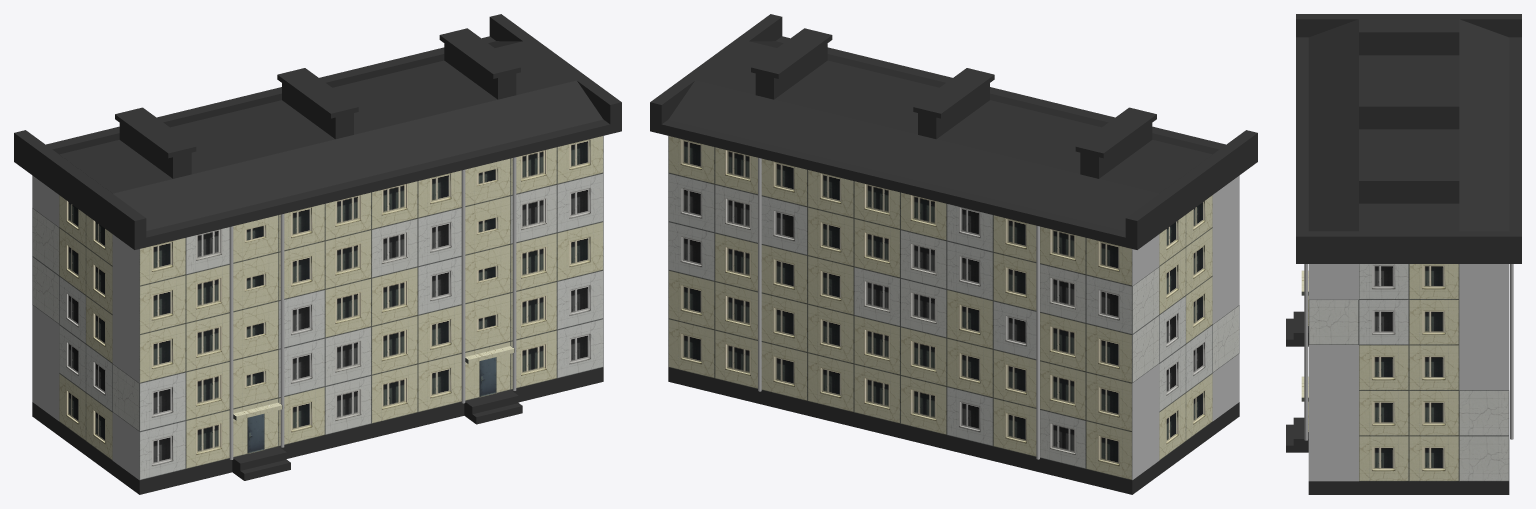
Rendered from panel1.fbx.
3 views of the same model, side by side, from view 1: azimuth 30°, elevation 25°; view 2: azimuth 150°, elevation 25°; view 3: azimuth 270°, elevation 25° (orthographic). The views are drawn at different scales.
Parts seen in each view (by area): view 1: Plane.055, Cube.010, Cube.011, Cube.012, Plane.007, Plane.130, Plane.071, Plane.074, Plane.014, Plane.076, Plane.077, Plane.157 (+80 smaller); view 2: Plane.055, Cube.010, Cube.011, Cube.012, Plane.119, Plane.146, Plane.021, Plane.065, Plane.023, Plane.122, Plane.134, Plane.066 (+80 smaller); view 3: Plane.055, Cube.010, Cube.012, Cube.011, Plane.028, Plane.166, Plane.168, Plane.010, Plane.025, Plane.027, Plane.029, Plane.030 (+26 smaller).
Boxes of the visible parts, left/top/right/bottom form: Plane.055: left=52, top=41, right=603, bottom=230; Cube.010: left=14, top=36, right=621, bottom=249; Cube.011: left=14, top=130, right=146, bottom=240; Cube.012: left=489, top=14, right=621, bottom=124; Plane.007: left=557, top=318, right=603, bottom=378; Plane.130: left=557, top=221, right=603, bottom=281; Plane.071: left=325, top=375, right=371, bottom=434; Plane.074: left=325, top=326, right=371, bottom=386; Plane.014: left=139, top=420, right=185, bottom=480; Plane.076: left=557, top=173, right=603, bottom=232; Plane.077: left=139, top=275, right=185, bottom=334; Plane.157: left=557, top=270, right=603, bottom=329; Plane.055: left=668, top=41, right=1219, bottom=230; Cube.010: left=650, top=36, right=1257, bottom=249; Cube.011: left=1125, top=130, right=1257, bottom=240; Cube.012: left=650, top=14, right=782, bottom=124; Plane.119: left=946, top=289, right=993, bottom=349; Plane.146: left=946, top=338, right=993, bottom=397; Plane.021: left=946, top=386, right=993, bottom=446; Plane.065: left=946, top=241, right=993, bottom=300; Plane.023: left=668, top=318, right=714, bottom=378; Plane.122: left=807, top=255, right=853, bottom=315; Plane.134: left=668, top=221, right=714, bottom=281; Plane.066: left=900, top=375, right=946, bottom=434; Plane.055: left=1308, top=19, right=1509, bottom=231; Cube.010: left=1296, top=37, right=1521, bottom=263; Cube.012: left=1296, top=231, right=1521, bottom=254; Cube.011: left=1296, top=14, right=1521, bottom=37; Plane.028: left=1308, top=390, right=1358, bottom=435; Plane.166: left=1459, top=390, right=1509, bottom=435; Plane.168: left=1409, top=390, right=1459, bottom=435; Plane.010: left=1308, top=436, right=1358, bottom=481; Plane.025: left=1459, top=436, right=1509, bottom=481; Plane.027: left=1409, top=436, right=1459, bottom=481; Plane.029: left=1308, top=345, right=1358, bottom=390; Plane.030: left=1308, top=299, right=1358, bottom=344.
Bounding box in the file's own units: 2100 × 1270 × 940.
